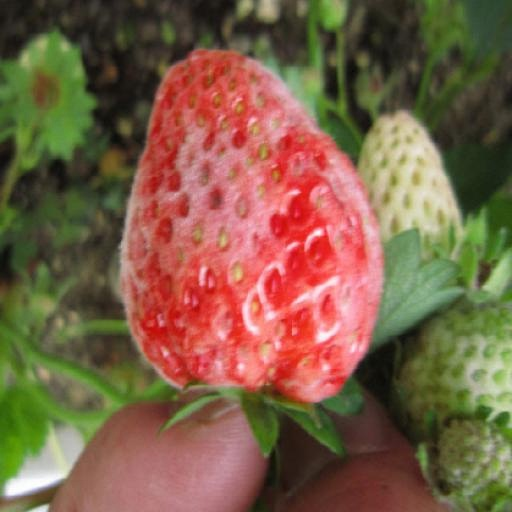Powdery Mildew Fruit: (125, 108, 393, 461)
